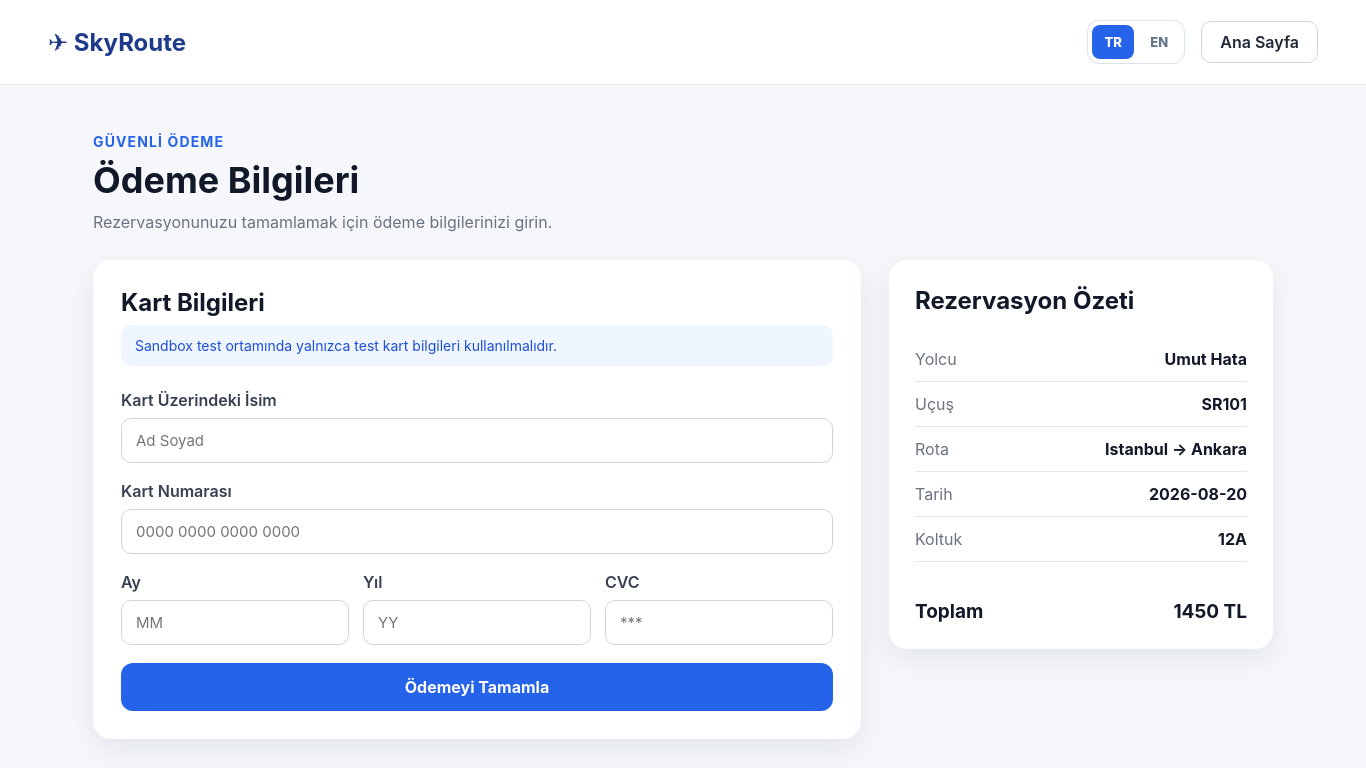
Test: payment frontend flow › sends payment data and opens the success page
Type "Umut Hata" into the field labelled "Kart Üzerindeki İsim" at (477,440), box top-left (121, 418), bottom-right (833, 463)
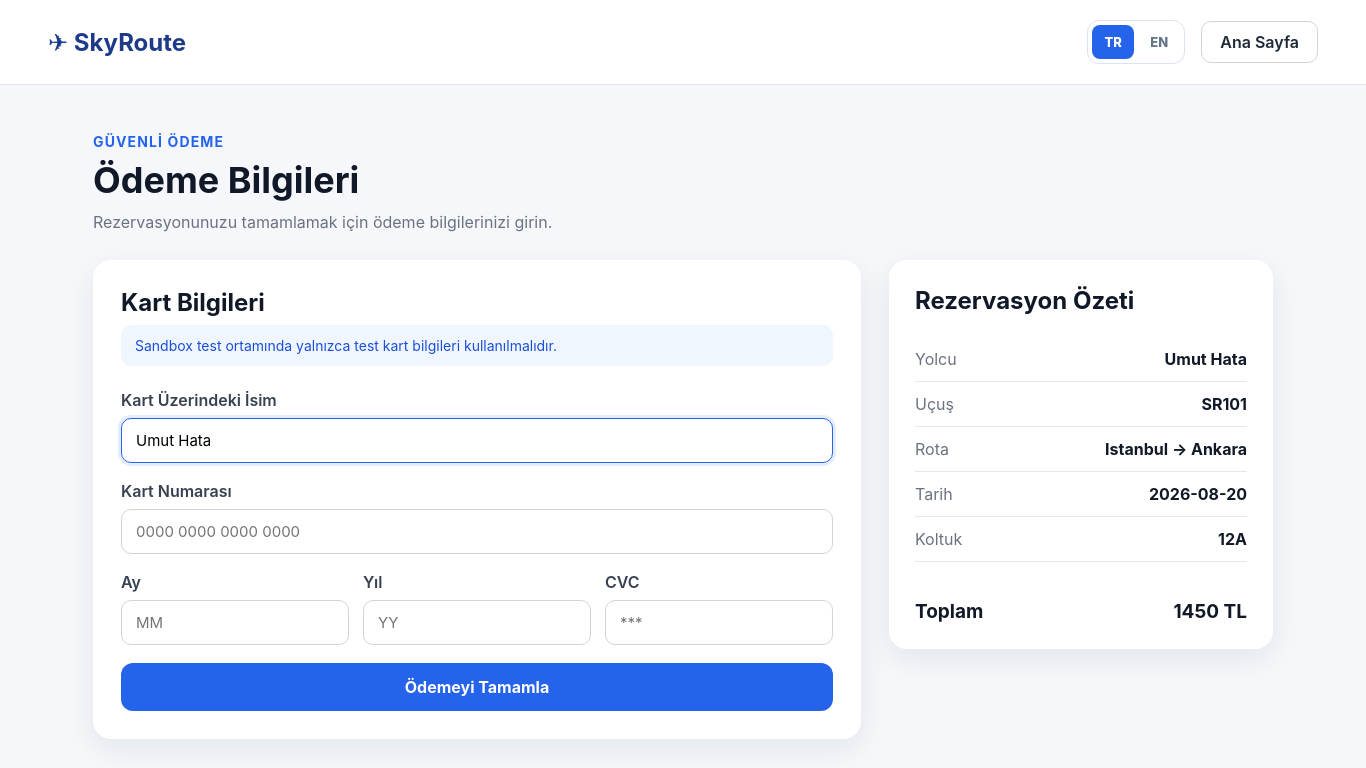
Type "5528 7920 0000 0008" into the field labelled "Kart Numarası" at (477,532), box top-left (121, 509), bottom-right (833, 554)
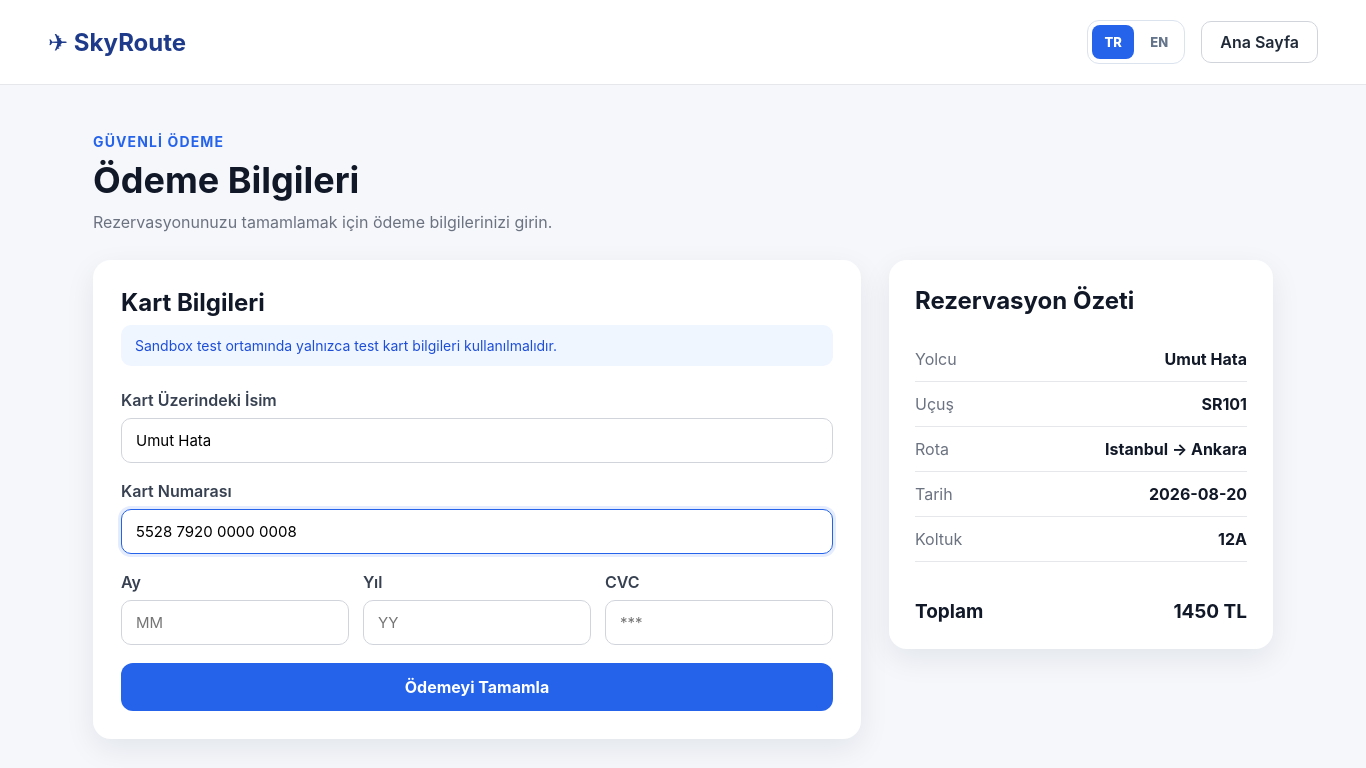
Type "12" into the field labelled "Ay" at (235,622), box top-left (121, 600), bottom-right (349, 645)
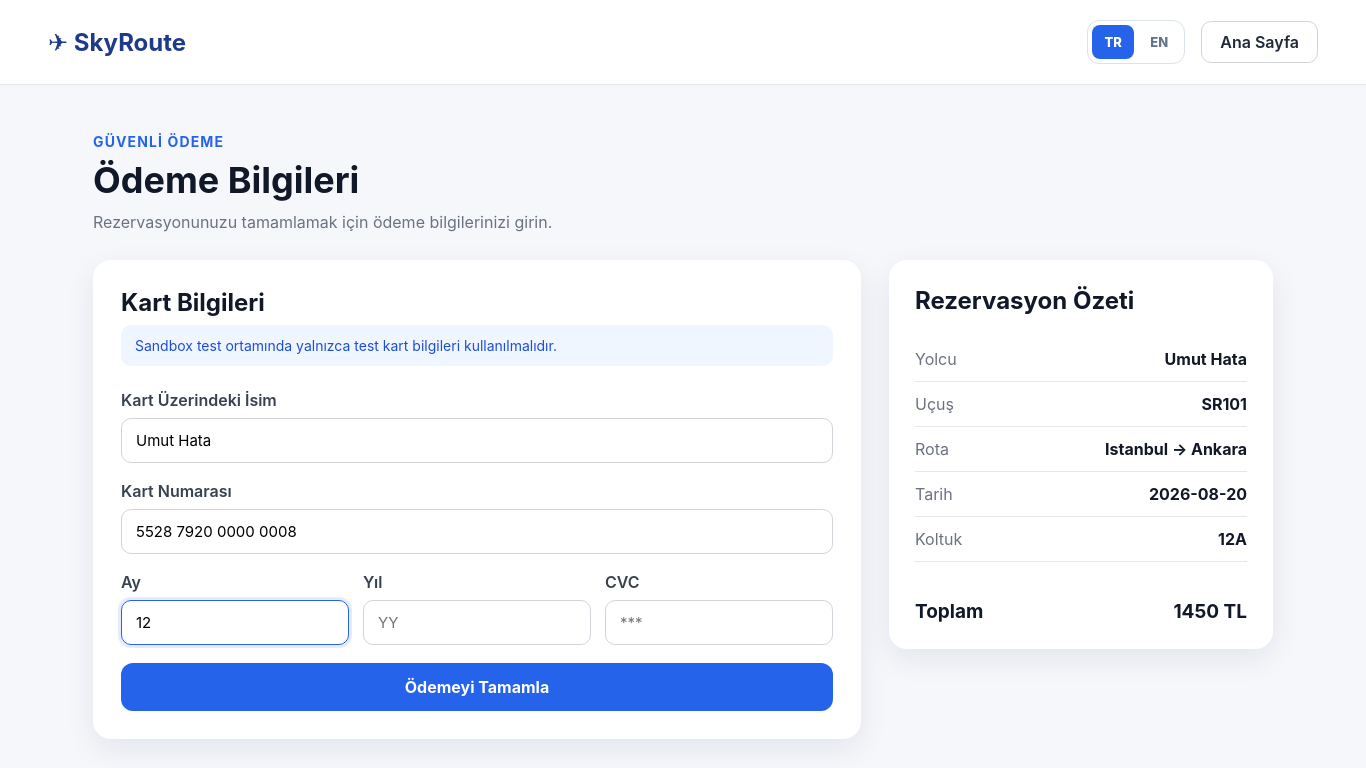
Type "30" into the field labelled "Yıl" at (477,622), box top-left (363, 600), bottom-right (591, 645)
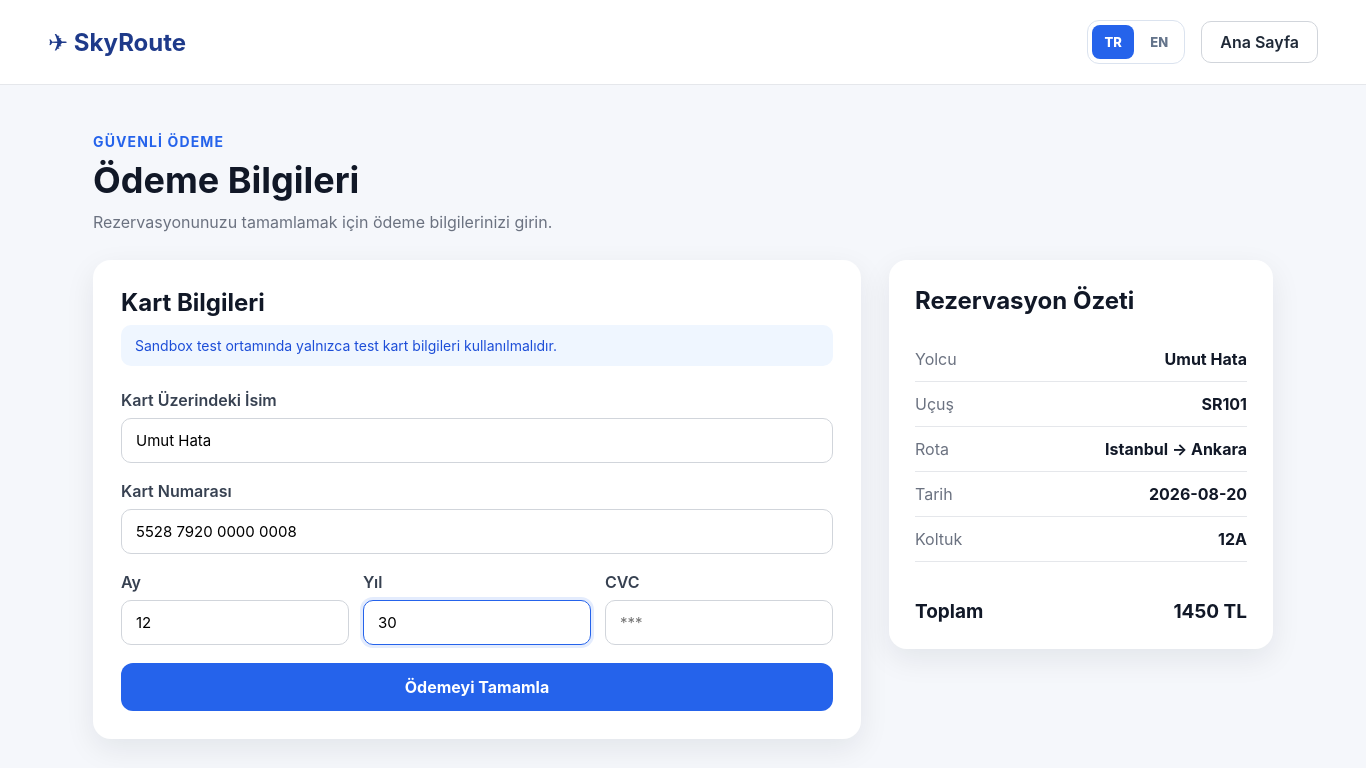
Type "123" into the password field labelled "CVC" at (719,622), box top-left (605, 600), bottom-right (833, 645)
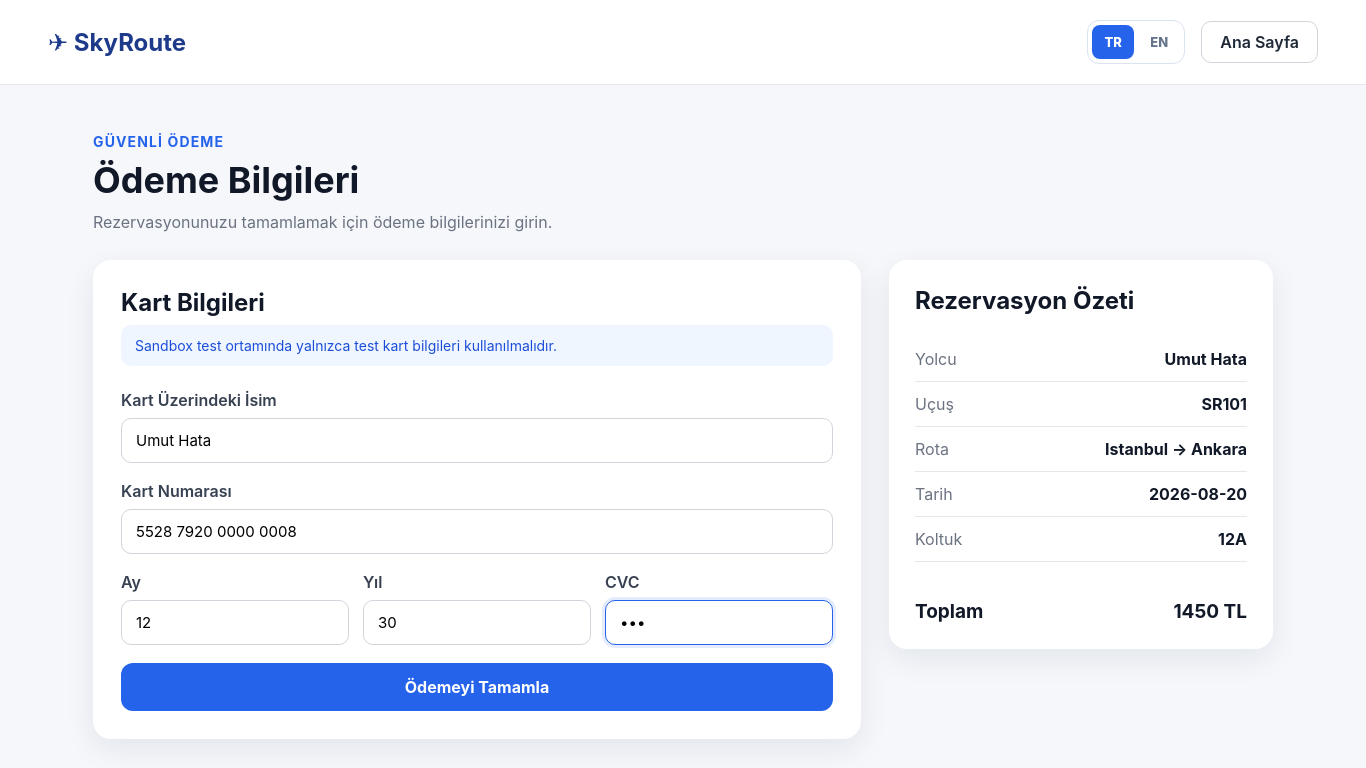
Click the button "Ödemeyi Tamamla" at (477,687), box top-left (121, 663), bottom-right (833, 711)
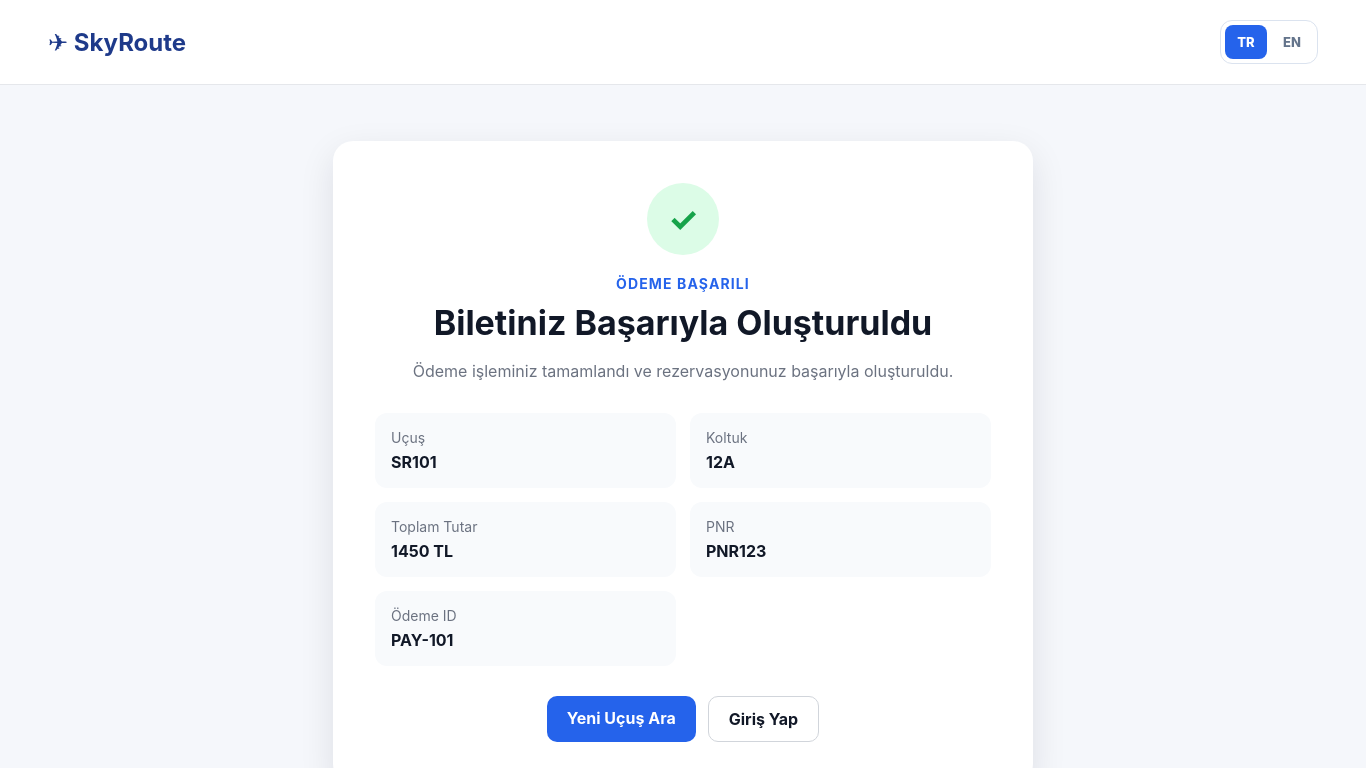
Expected: the heading "Biletiniz Başarıyla Oluşturuldu" is shown, top-left (434, 302), bottom-right (932, 343)
Expected: the text "PNR123" is shown, top-left (706, 541), bottom-right (766, 561)
Expected: the text "PAY-101" is shown, top-left (391, 630), bottom-right (454, 650)
